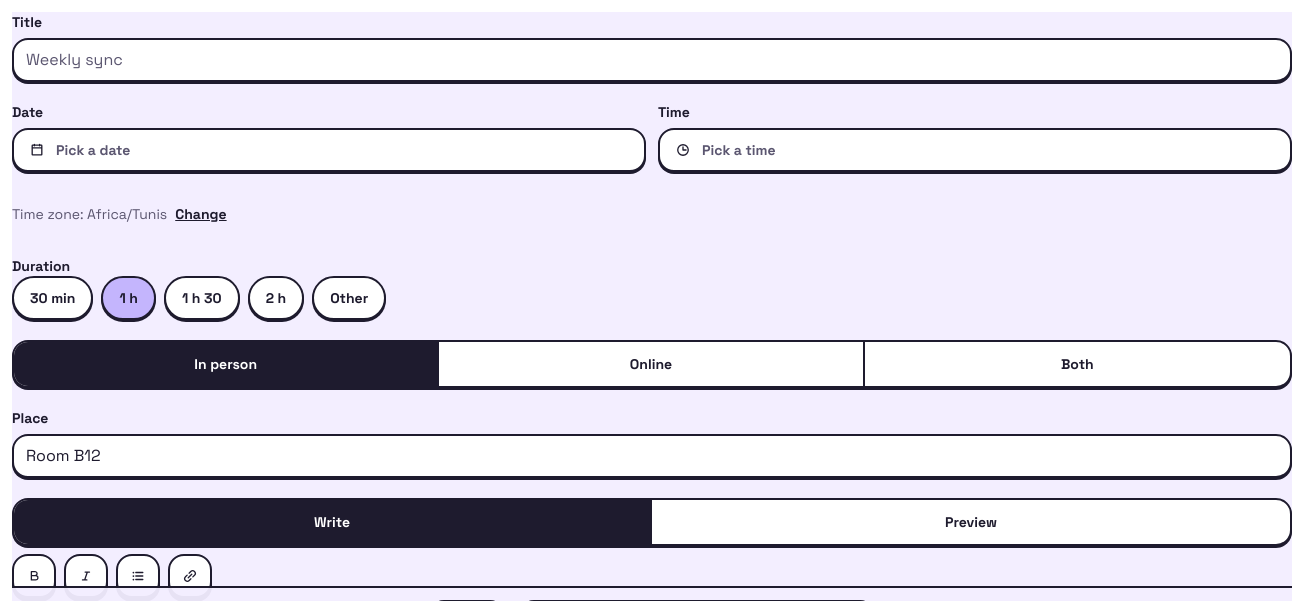
Test: DetailsStep › asks for a link instead of a place when the meeting is online
The width and height of the screenshot is (1304, 601).
Expected: the field labelled "Place" is shown, x1=12 y1=434 x2=1292 y2=478
Click the radio button labelled "Online": (652, 364) x1=439 y1=342 x2=865 y2=386
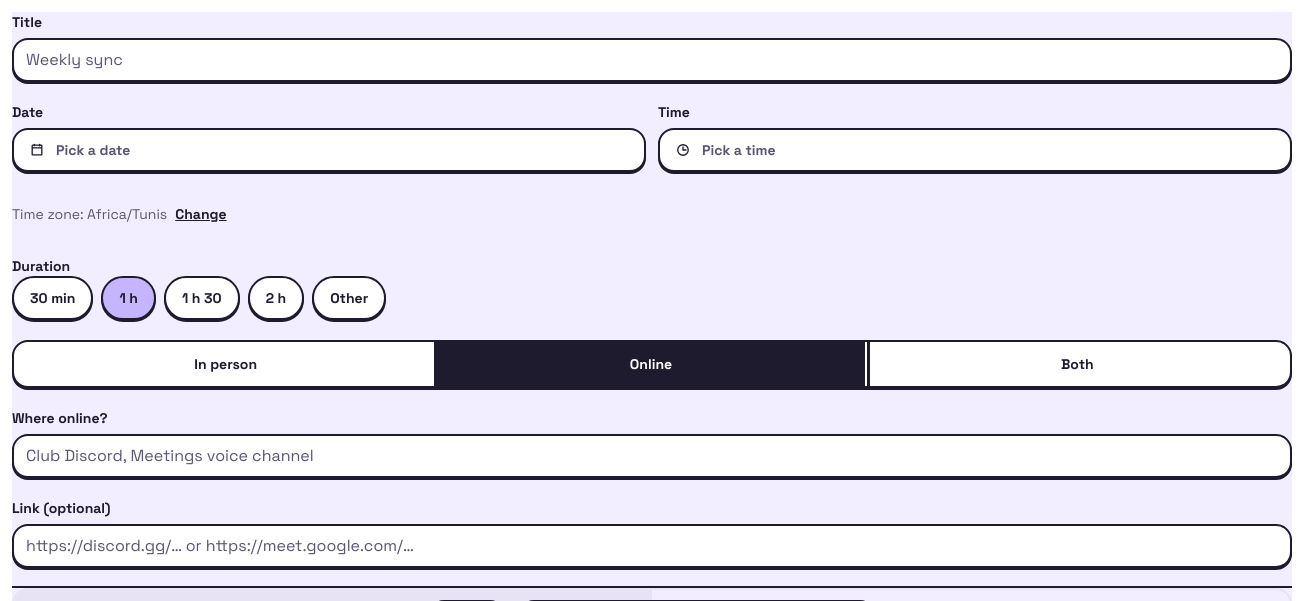
Now the field labelled "Where online?" is shown, box x1=12 y1=434 x2=1292 y2=478
Now the field labelled "Link (optional)" is shown, box x1=12 y1=524 x2=1292 y2=568
Now the label labelled "Place" is gone
